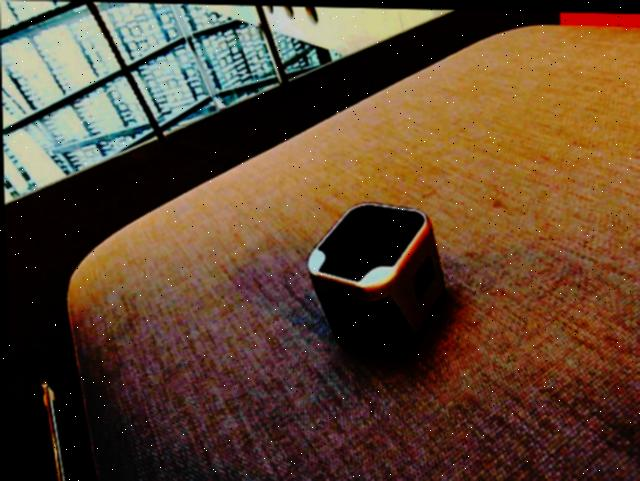adapter: (304, 199, 446, 358)
